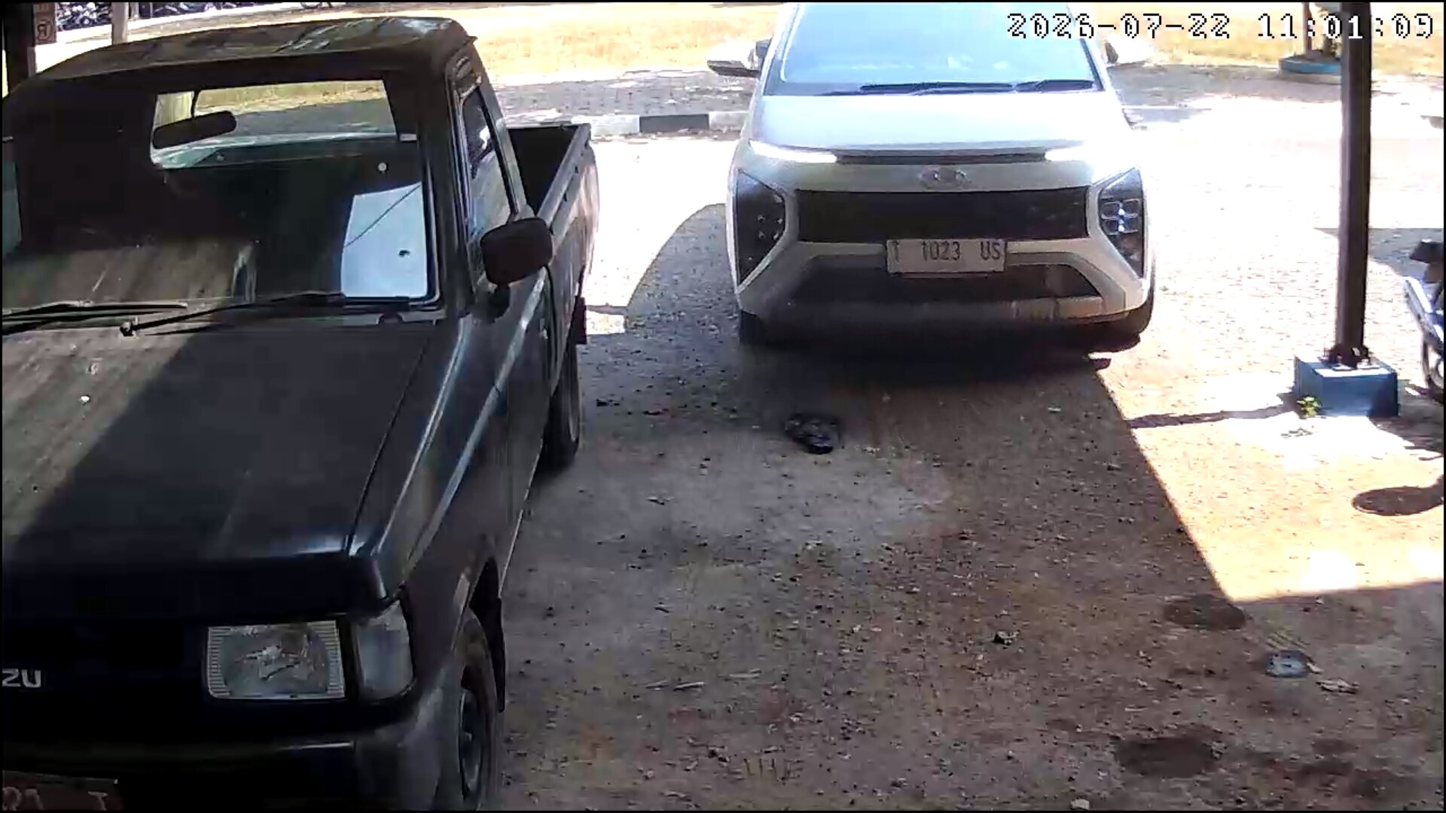plat nomor: (885, 238, 1006, 275)
